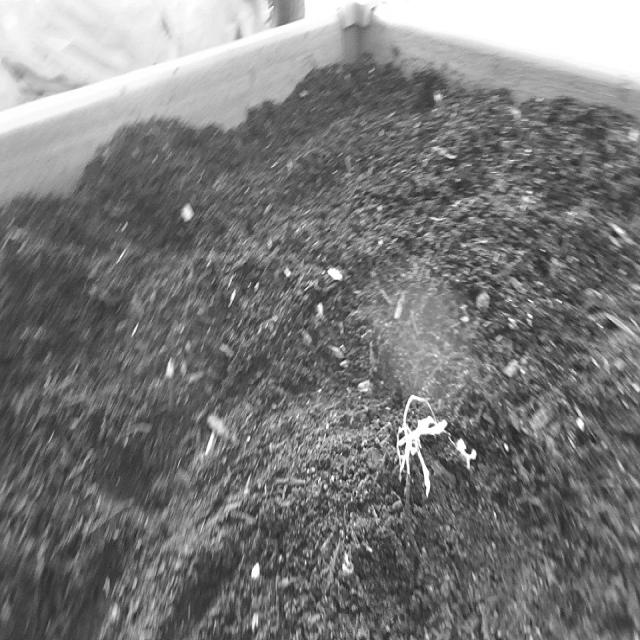Unhealthy: (394, 388, 479, 505)
